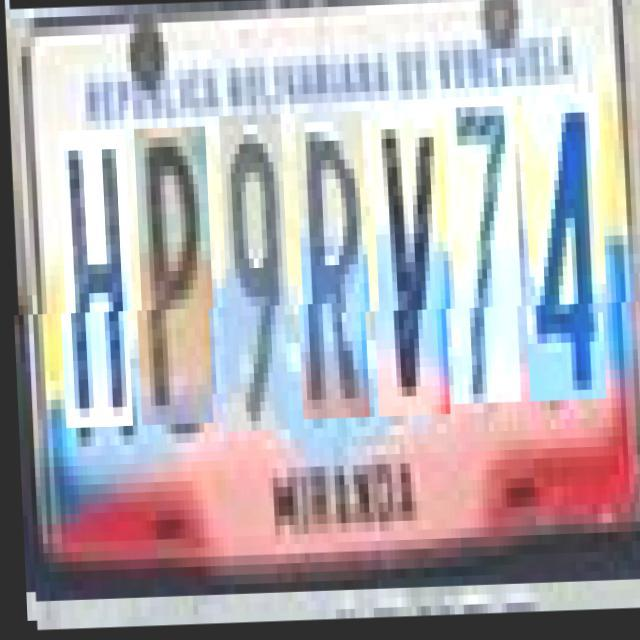4: (520, 97, 608, 406)
7: (445, 100, 522, 407)
9: (218, 116, 290, 434)
H: (57, 130, 134, 428)
P: (133, 128, 214, 426)
R: (294, 114, 371, 421)
V: (369, 112, 451, 420)
